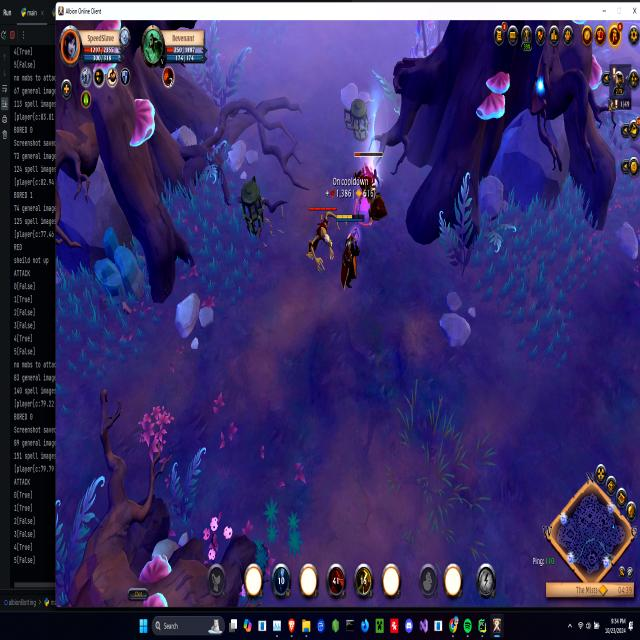ore: (351, 147, 390, 230), (303, 202, 342, 278)
red: (334, 208, 368, 298)
